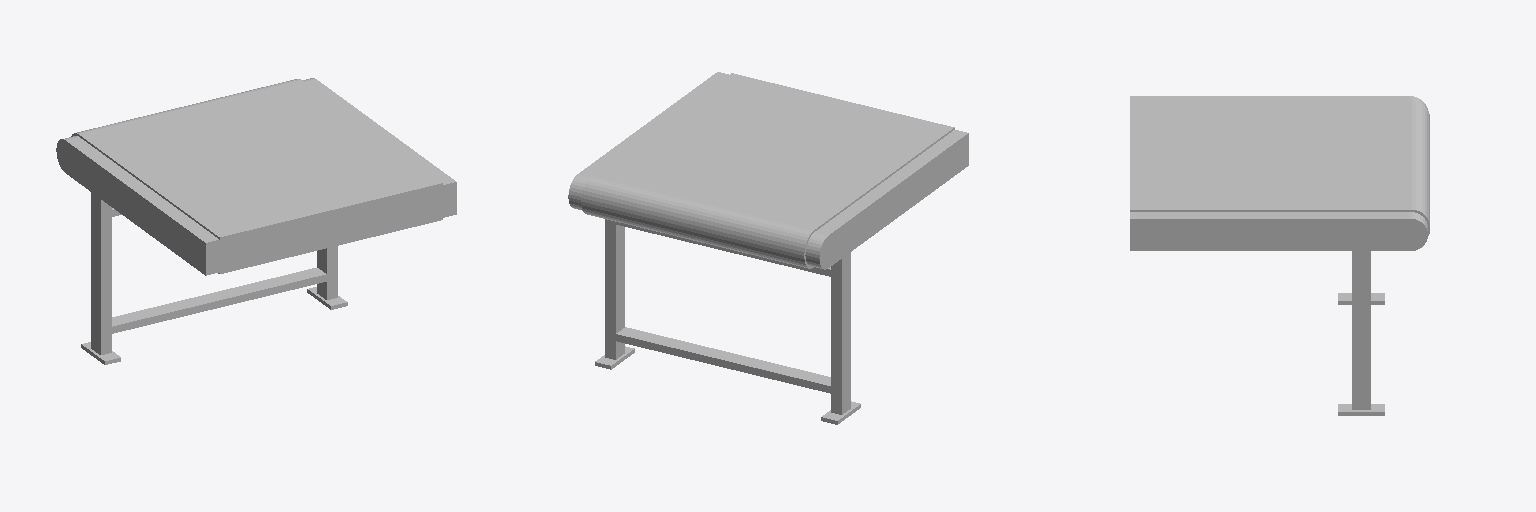
The model's file is foederband_endstuck.obj.
The picture shows the model from 3 angles: view 1: azimuth 30°, elevation 25°; view 2: azimuth 150°, elevation 25°; view 3: azimuth 270°, elevation 25°; orthographic projection.
Bounding box in the file's own units: 1.88 × 1.44 × 1.95.